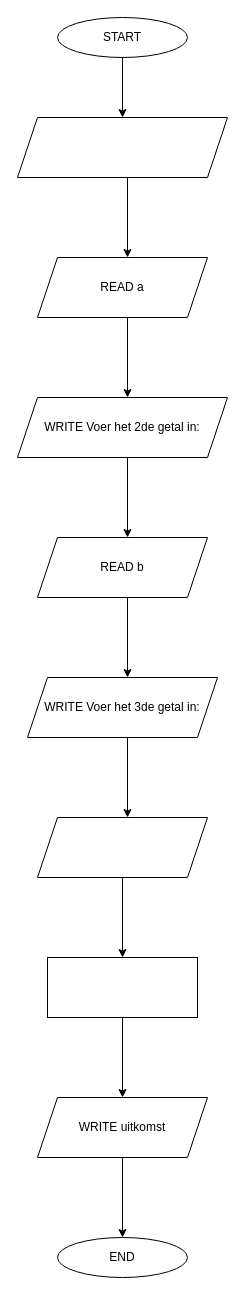
Some shapes in this 245 by 1295 pixel diagram are drawn without their labels. Here are the shapes that lost their labels. From the top down, the centre of each, then its label:
pixel 122 147: WRITE Voer het 1ste getal in:
pixel 122 847: READ c
pixel 122 987: INT uitkomst = a + b + c
